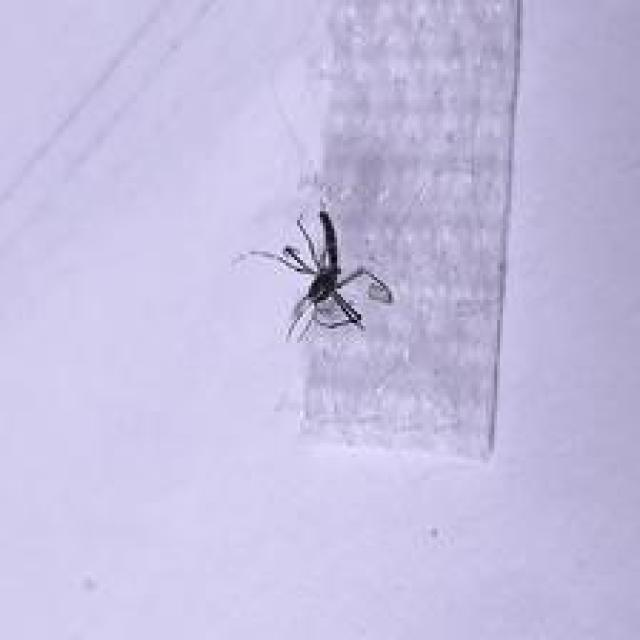Aedes albopictus: (240, 206, 394, 343)
